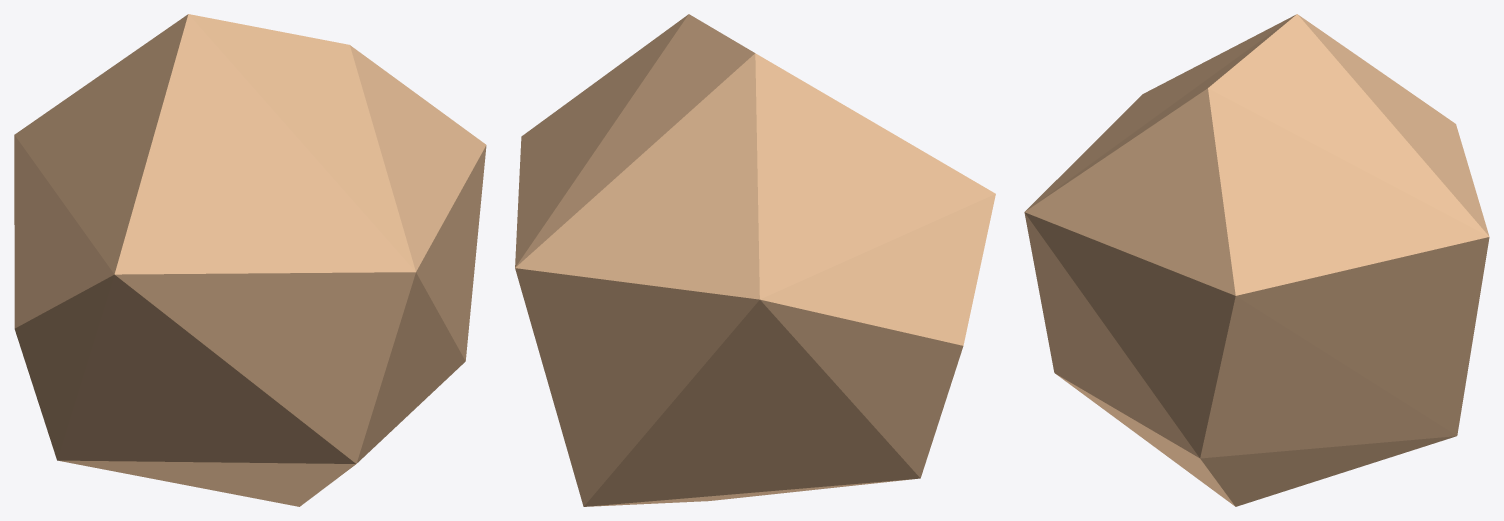
Rendered from brotkrumen.fbx.
3 renders of one model, left to right at view 1: azimuth 30°, elevation 25°; view 2: azimuth 150°, elevation 25°; view 3: azimuth 270°, elevation 25°, orthographic. The views are drawn at different scales.
Visible parts, largest first — view 1: Icosphere; view 2: Icosphere; view 3: Icosphere.
Boxes of the visible parts, x1,y1,x2,y2 form: Icosphere: (14,14,486,506); Icosphere: (515,14,995,506); Icosphere: (1024,14,1489,506).
Size of the model in its own units: 21.01 by 21.51 by 19.84.
